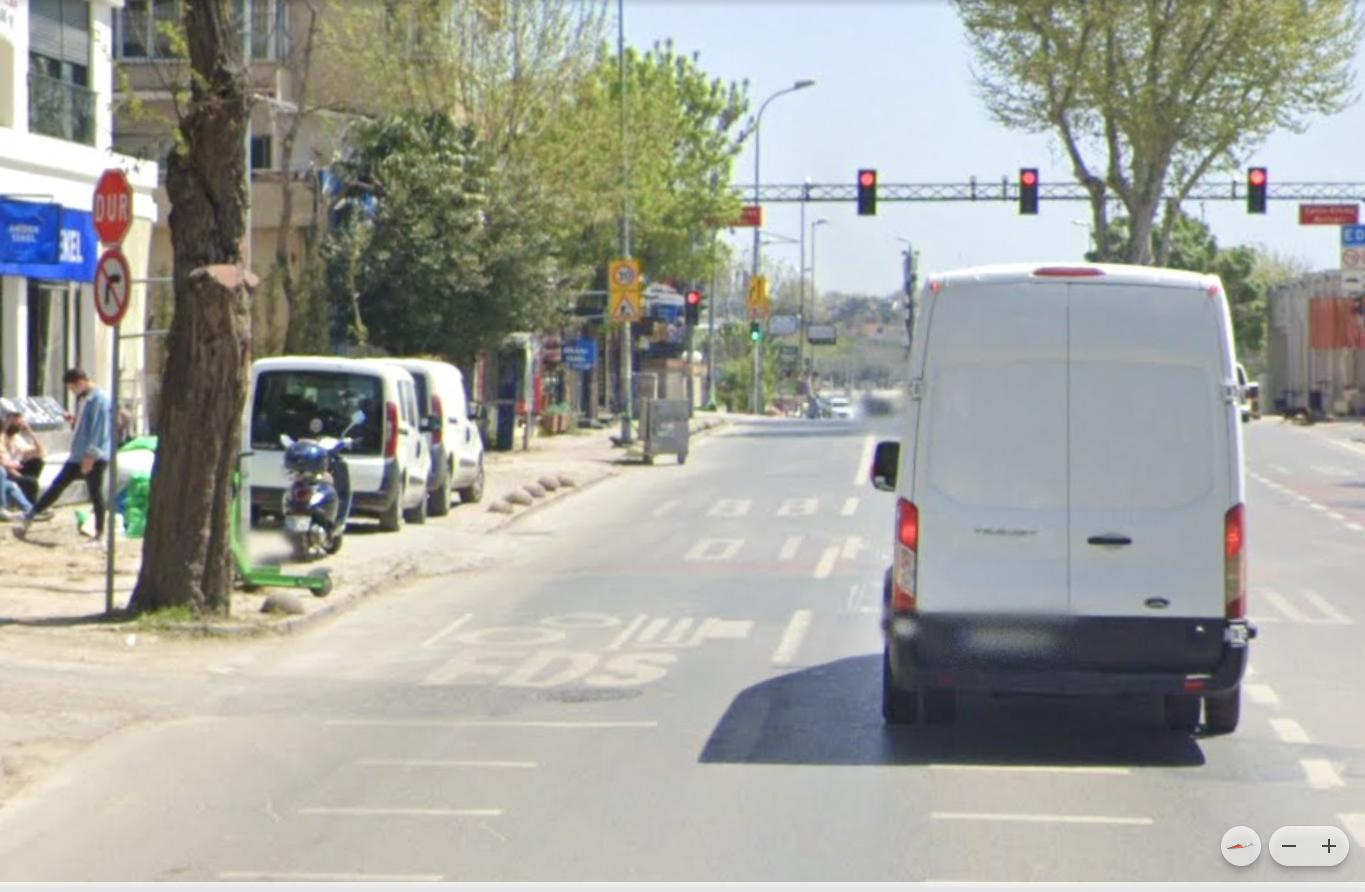greenlight: (749, 322, 762, 346)
redlight: (1246, 166, 1272, 212), (856, 164, 879, 215), (1022, 165, 1039, 213), (685, 290, 701, 326)
rightturnsareforbidden: (88, 251, 134, 320)
stop: (91, 168, 144, 246)
